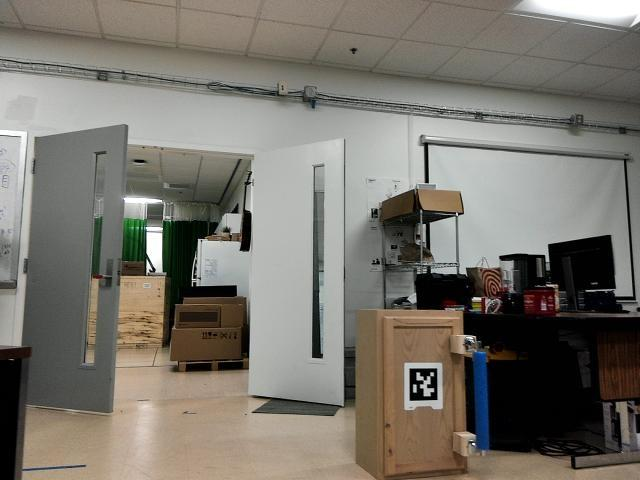noodle_handle: (469, 344, 493, 456)
